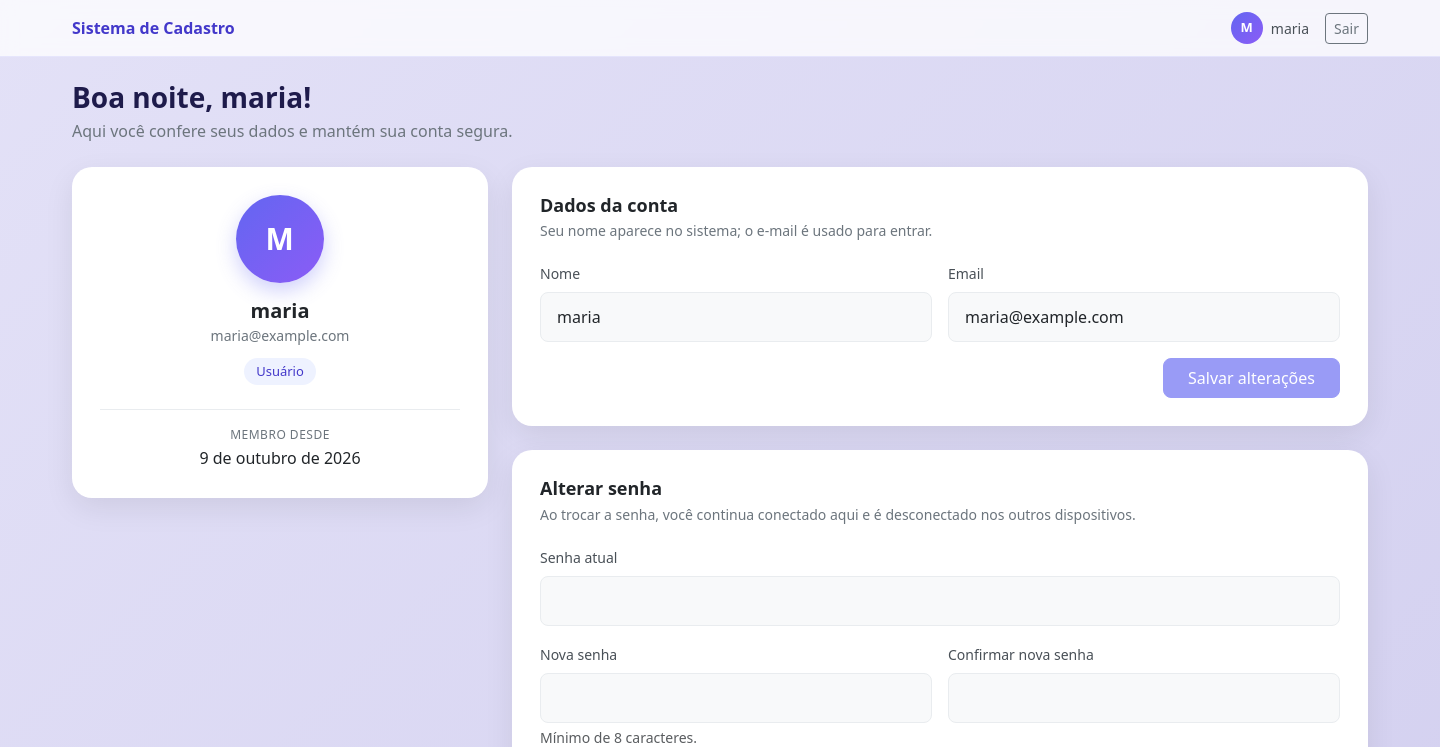
Scenario: home do usuário › mostra o erro da API ao salvar os dados
Expected: the element "Dados da conta" is shown, [512, 167, 1368, 426]
Replace the text in the field labelled "Email" with "joana@example.com" at (1144, 317), box [948, 292, 1340, 342]
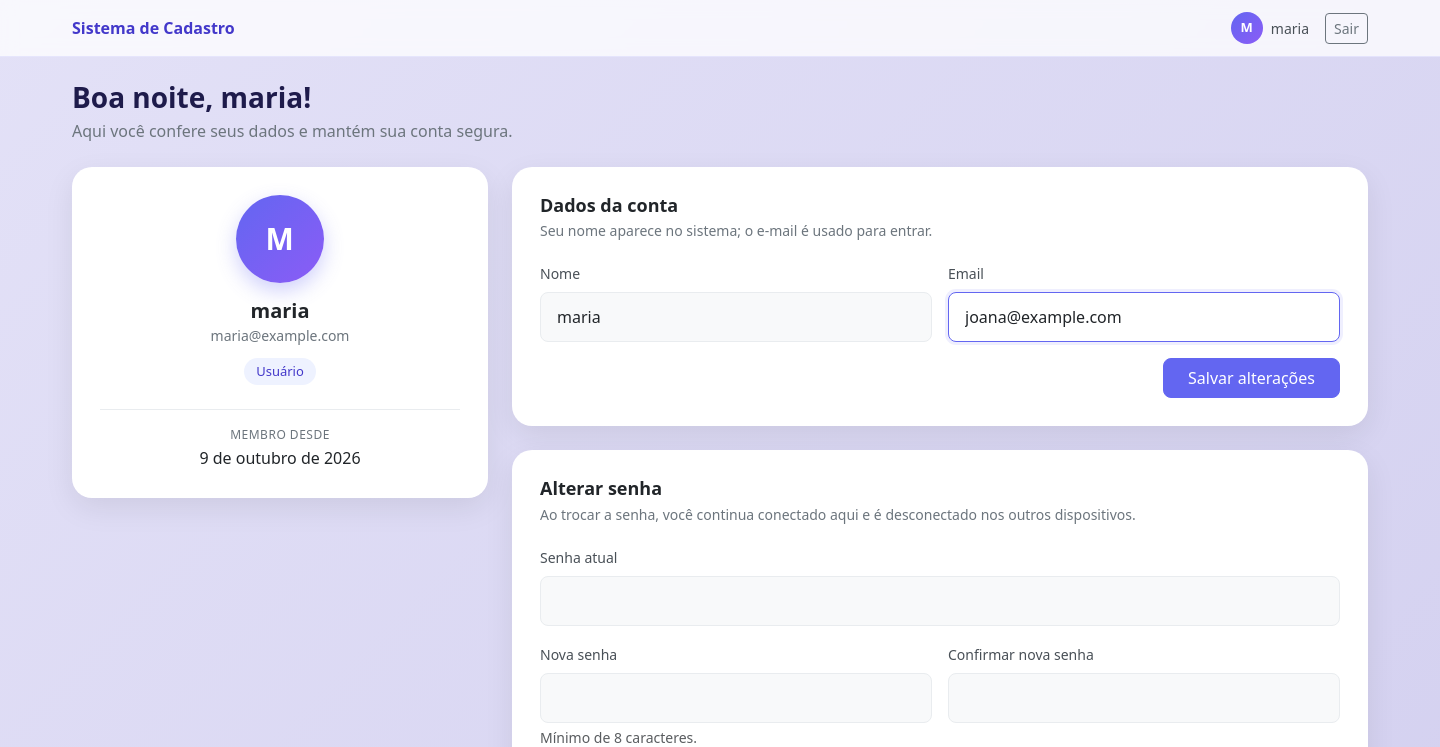
Click the button "Salvar alterações".
click(1252, 378)  # box [1163, 358, 1340, 398]
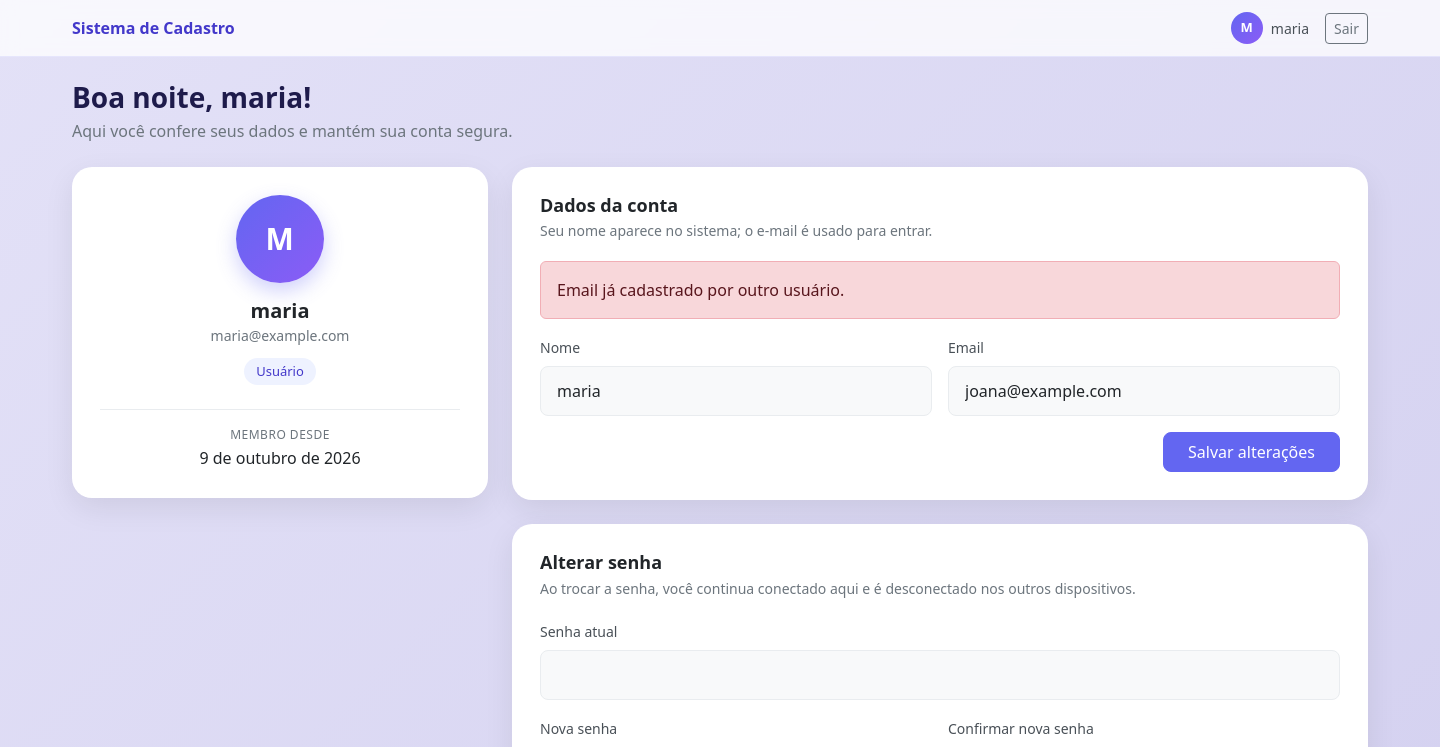
Expected: the message shows "Email já cadastrado", [557, 279, 844, 301]
